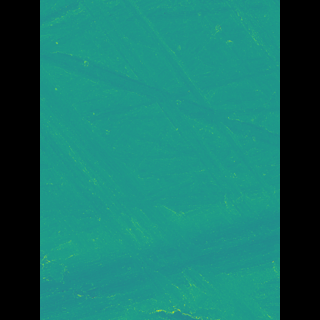Loch: (69, 50, 250, 319), (70, 196, 250, 319)
